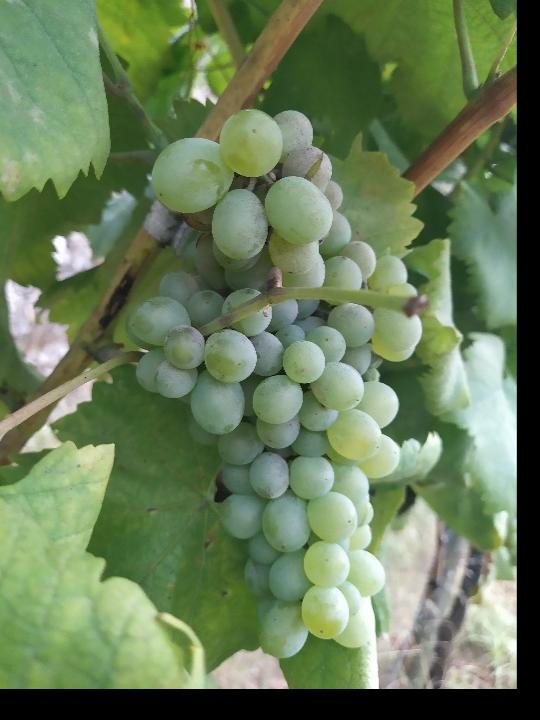grape: (129, 106, 426, 659)
